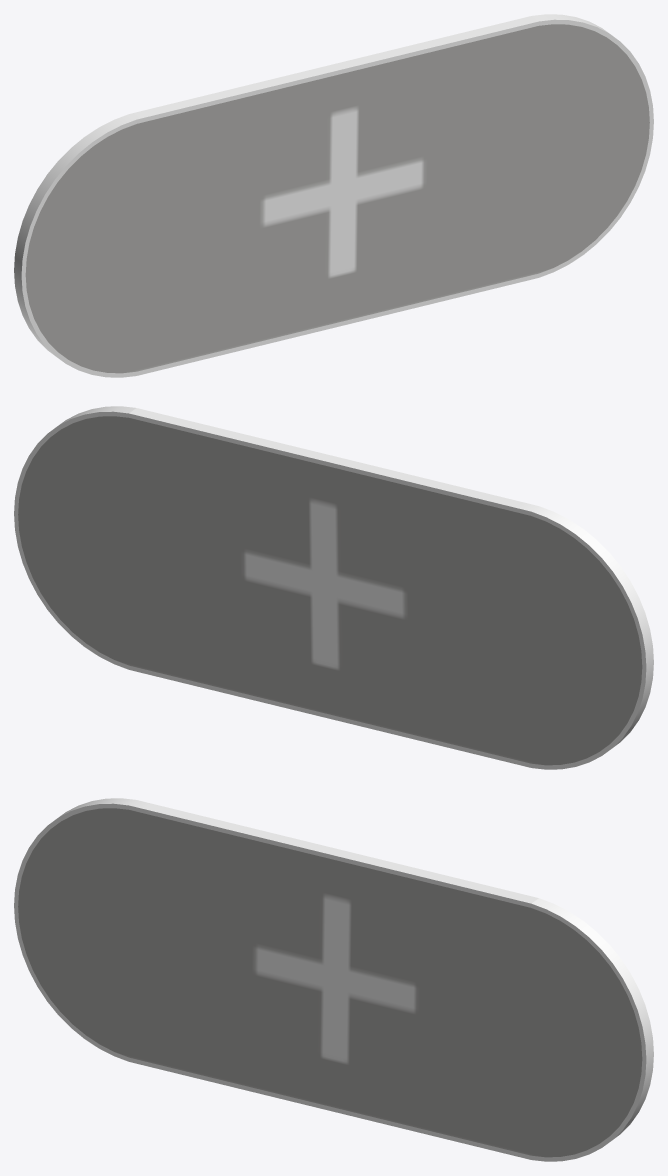
File: add.glb
3 views of the same model, one above another, from view 1: azimuth 30°, elevation 25°; view 2: azimuth 150°, elevation 25°; view 3: azimuth 330°, elevation 25° (orthographic).
Parts seen in each view (by area): view 1: A3_1_Add_primitive0, A3_1_Add_primitive1; view 2: A3_1_Add_primitive0, A3_1_Add_primitive1; view 3: A3_1_Add_primitive0, A3_1_Add_primitive1.
Part boxes in pixels (box(x1,y1,x2,y2)): A3_1_Add_primitive0: box(25, 24, 649, 373); A3_1_Add_primitive1: box(14, 14, 653, 377); A3_1_Add_primitive0: box(18, 416, 642, 765); A3_1_Add_primitive1: box(14, 406, 653, 769); A3_1_Add_primitive0: box(18, 808, 642, 1157); A3_1_Add_primitive1: box(14, 798, 653, 1161).
Bounding box in the file's own units: 0.0517 × 0.02 × 0.00107.
Materials: 2 (1 with a texture image).
